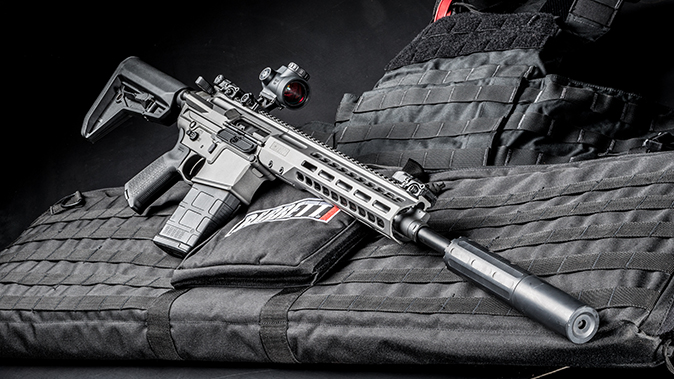Rifle: (77, 52, 603, 348)
